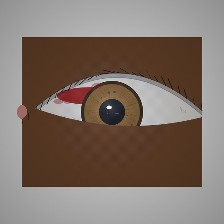hemorrhage_spot: (44, 58, 138, 133)
